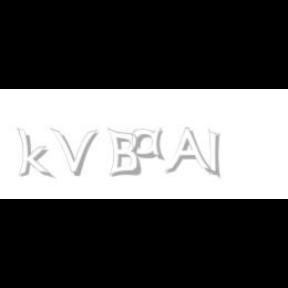A: (164, 128, 212, 176)
B: (107, 128, 141, 178)
I: (208, 128, 222, 180)
V: (50, 128, 98, 176)
a: (132, 128, 170, 160)
k: (16, 128, 54, 180)
